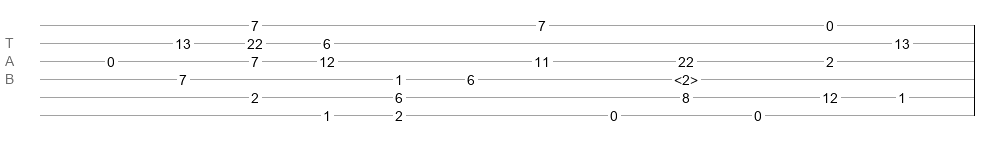0: (107, 54, 115, 64), (610, 108, 618, 118), (754, 108, 762, 118), (826, 18, 834, 28)
1: (323, 108, 331, 118), (395, 72, 403, 82), (898, 90, 906, 100)
11: (534, 54, 550, 64)
12: (319, 54, 335, 64), (822, 90, 838, 100)
13: (175, 36, 191, 46), (894, 36, 910, 46)
2: (251, 90, 259, 100), (395, 108, 403, 118), (826, 54, 834, 64)
22: (247, 36, 263, 46), (678, 54, 694, 64)
6: (323, 36, 331, 46), (395, 90, 403, 100), (467, 72, 475, 82)
7: (179, 72, 187, 82), (251, 54, 259, 64), (251, 18, 259, 28), (538, 18, 546, 28)
8: (682, 90, 690, 100)
harmonic: (674, 72, 698, 82)
